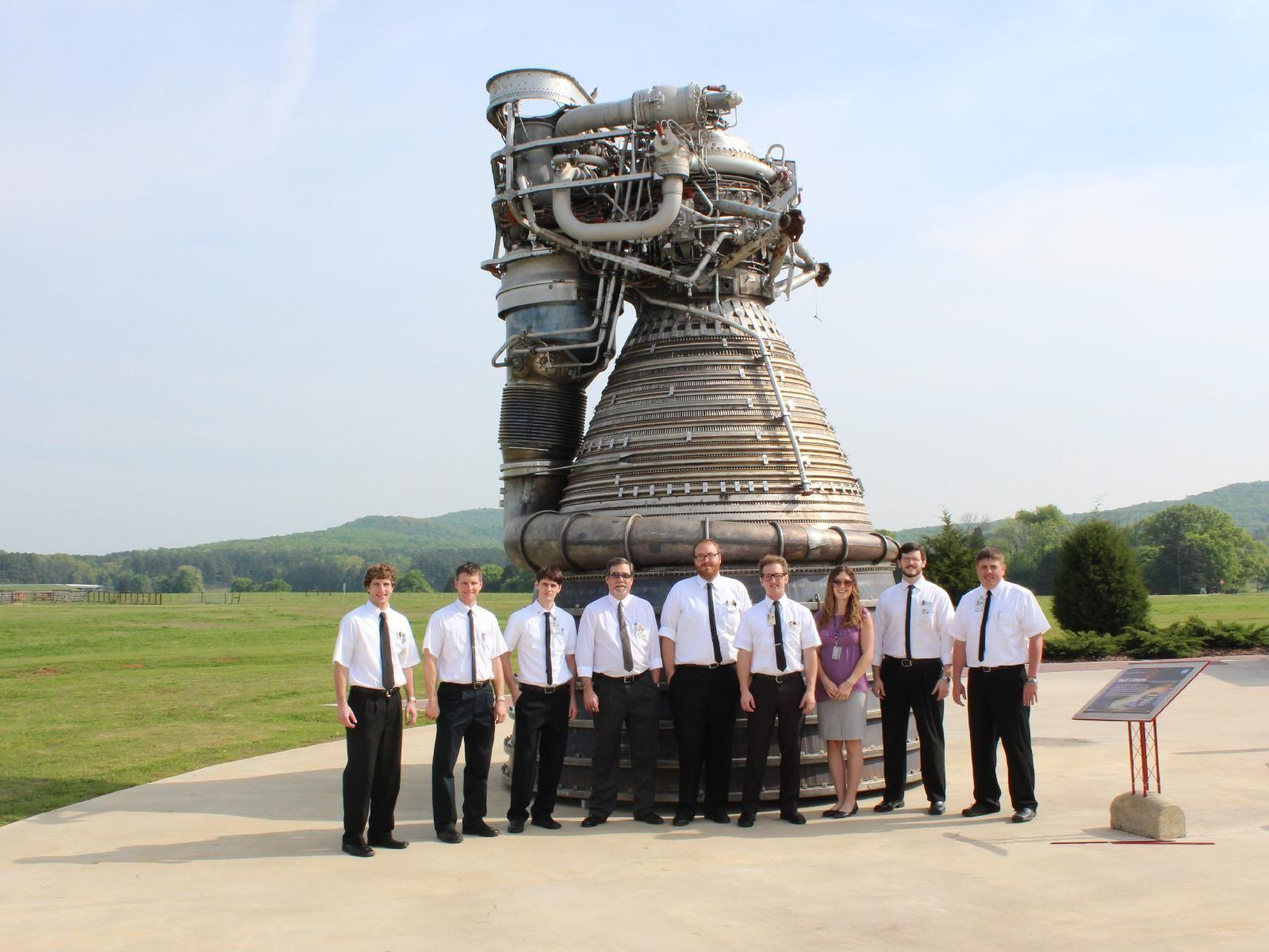thruster: (494, 299, 943, 812)
